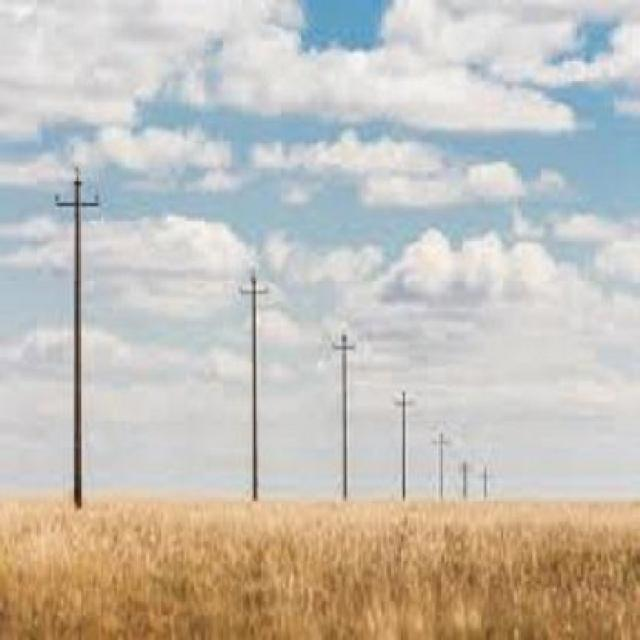pole: (42, 166, 109, 500), (229, 274, 280, 500), (322, 329, 363, 503), (391, 389, 417, 486)
